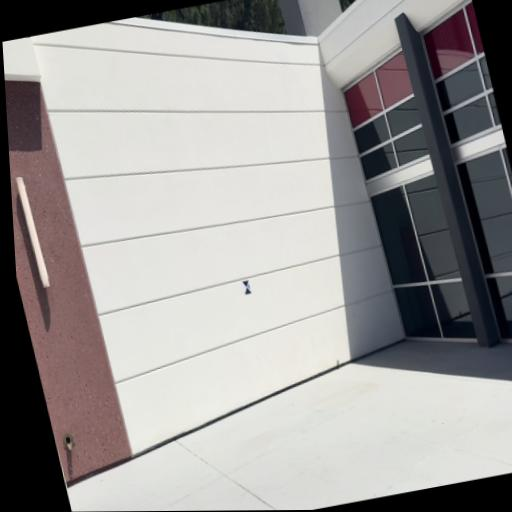target4: (241, 279, 252, 294)
